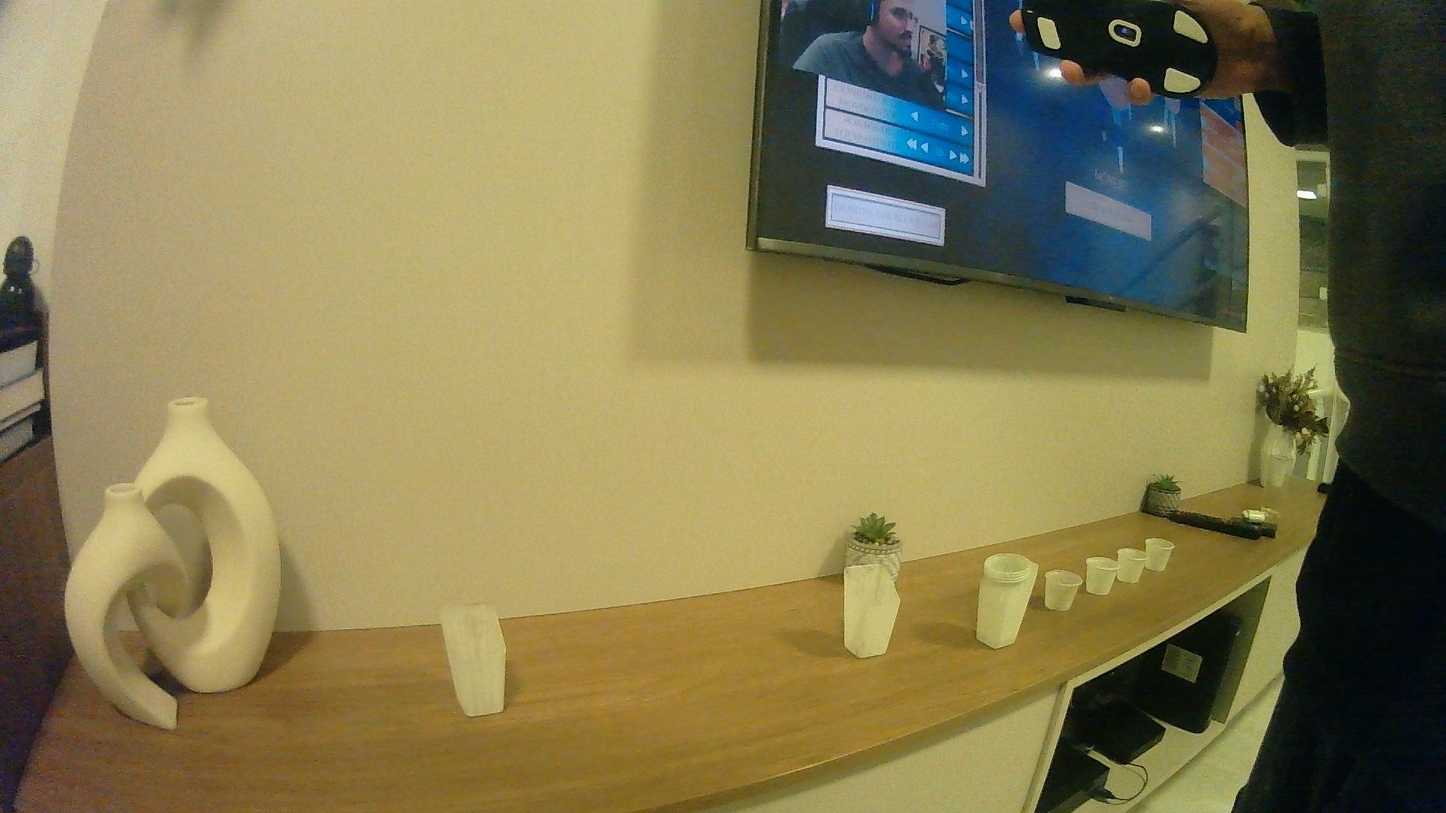erva_daninha: (434, 605, 515, 718), (837, 559, 905, 658)
planta: (1039, 566, 1083, 613), (1081, 556, 1124, 598), (1143, 536, 1176, 575), (1118, 545, 1146, 587)
